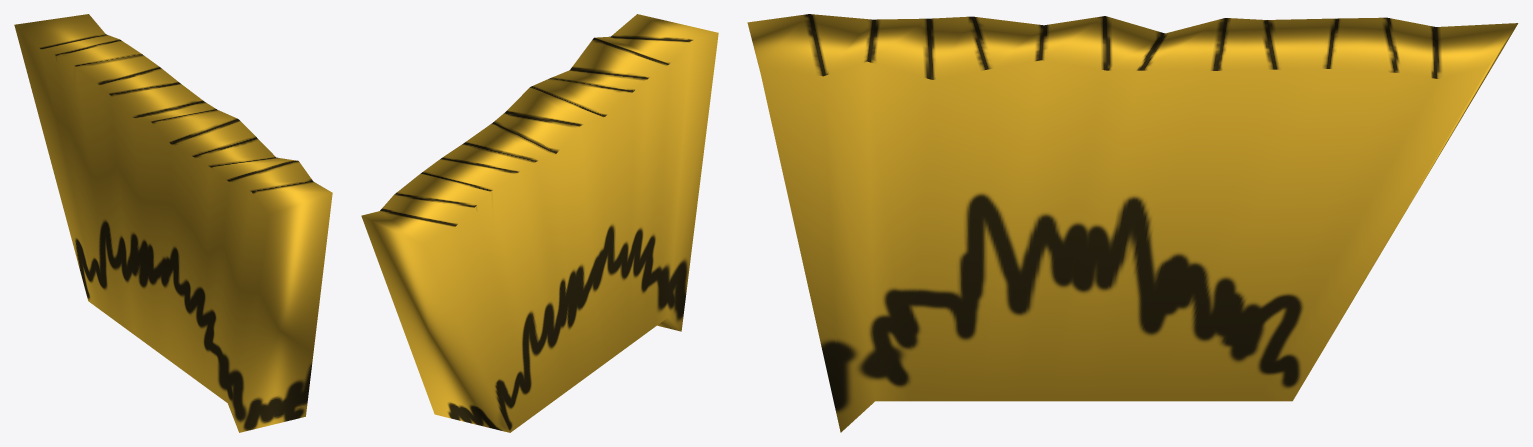
File: hat5.fbx
The picture shows the model from 3 angles, left to right: view 1: azimuth 30°, elevation 25°; view 2: azimuth 150°, elevation 25°; view 3: azimuth 270°, elevation 25°; orthographic projection. The views are drawn at different scales.
Visible parts, largest first — view 1: Cube; view 2: Cube; view 3: Cube.
Boxes of the visible parts, x1,y1,x2,y2 form: Cube: (14,14,332,432); Cube: (361,14,718,432); Cube: (747,14,1518,432).
Bounding box in the file's own units: 0.21 × 0.7085 × 1.33.
Materials: 1 (1 with a texture image).
